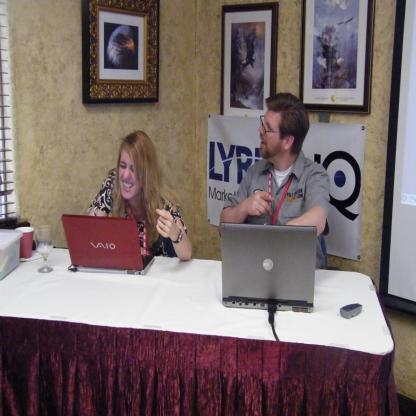board: (222, 221, 312, 328), (62, 214, 155, 275), (16, 226, 34, 258)
